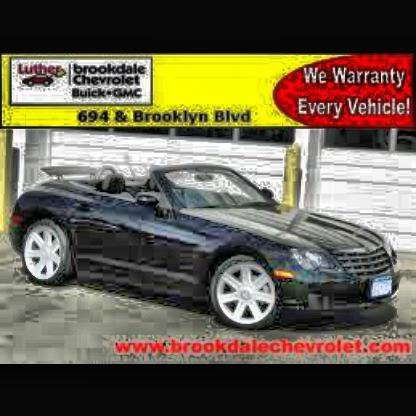Chrysler Crossfire Convertible 2008: (12, 164, 402, 335)
